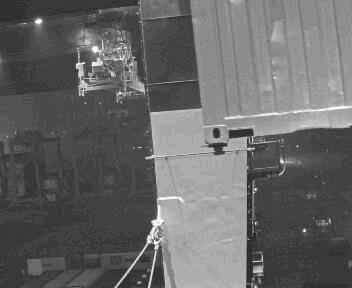twist_lock_1: (195, 142, 218, 158)
